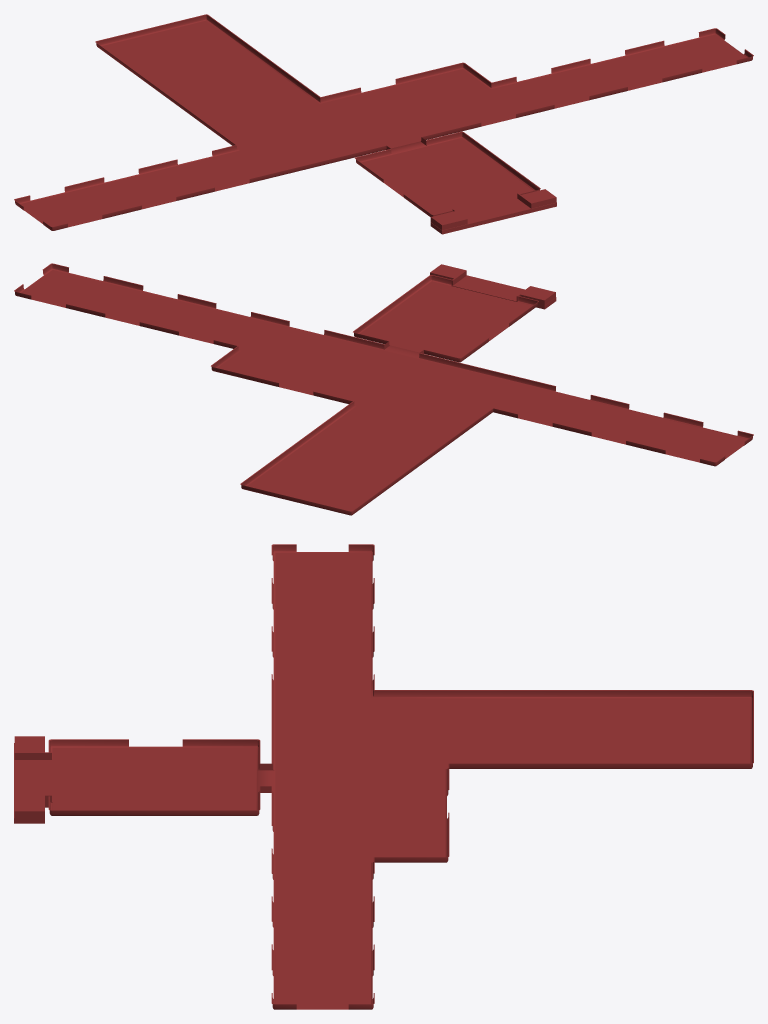
Rendered from Corridors-floor.FBX.
3 renders of one model, top to bottom at view 1: azimuth 30°, elevation 25°; view 2: azimuth 150°, elevation 25°; view 3: azimuth 270°, elevation 25°, orthographic. The views are drawn at different scales.
Visible parts, largest first — view 1: Object001; view 2: Object001; view 3: Object001.
Part boxes in pixels (box(x1,y1,x2,y2)): Object001: box(14, 14, 753, 234); Object001: box(14, 263, 753, 515); Object001: box(14, 544, 753, 1009).
Size of the model in its own units: 15.49 by 0.1896 by 10.53.
